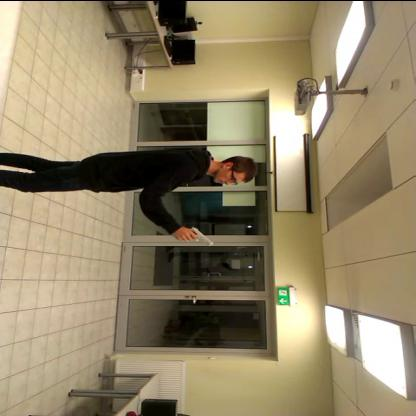Pistol: (168, 224, 216, 249)
